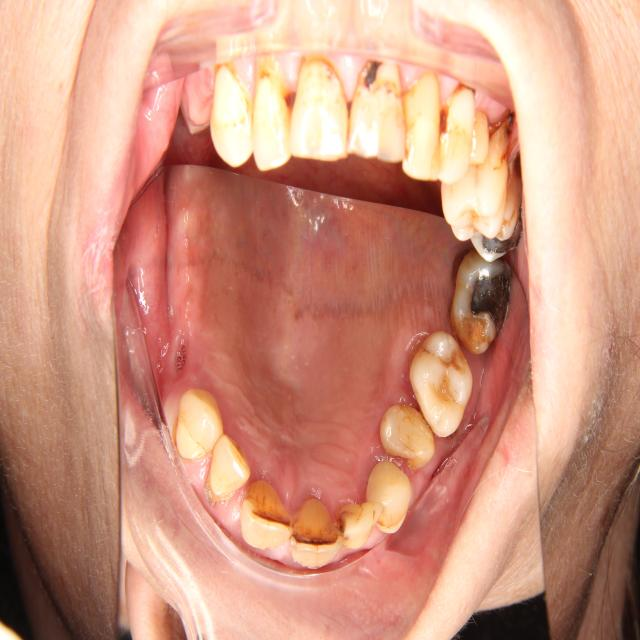tooth: (127, 266, 222, 414), (407, 266, 500, 414), (109, 170, 195, 315), (438, 181, 513, 317), (110, 99, 192, 195), (252, 497, 324, 595), (382, 410, 449, 513), (443, 101, 510, 203), (183, 423, 246, 530), (316, 488, 377, 587), (220, 474, 274, 570), (361, 468, 413, 544)
